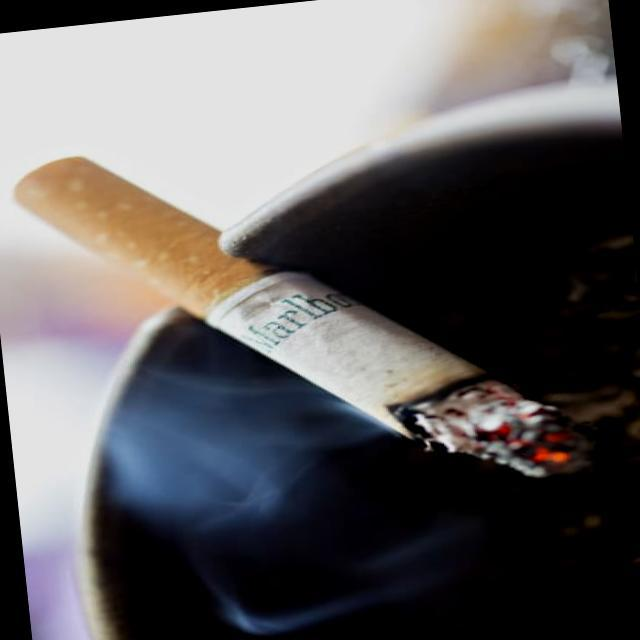cigarette: (0, 106, 599, 537)
